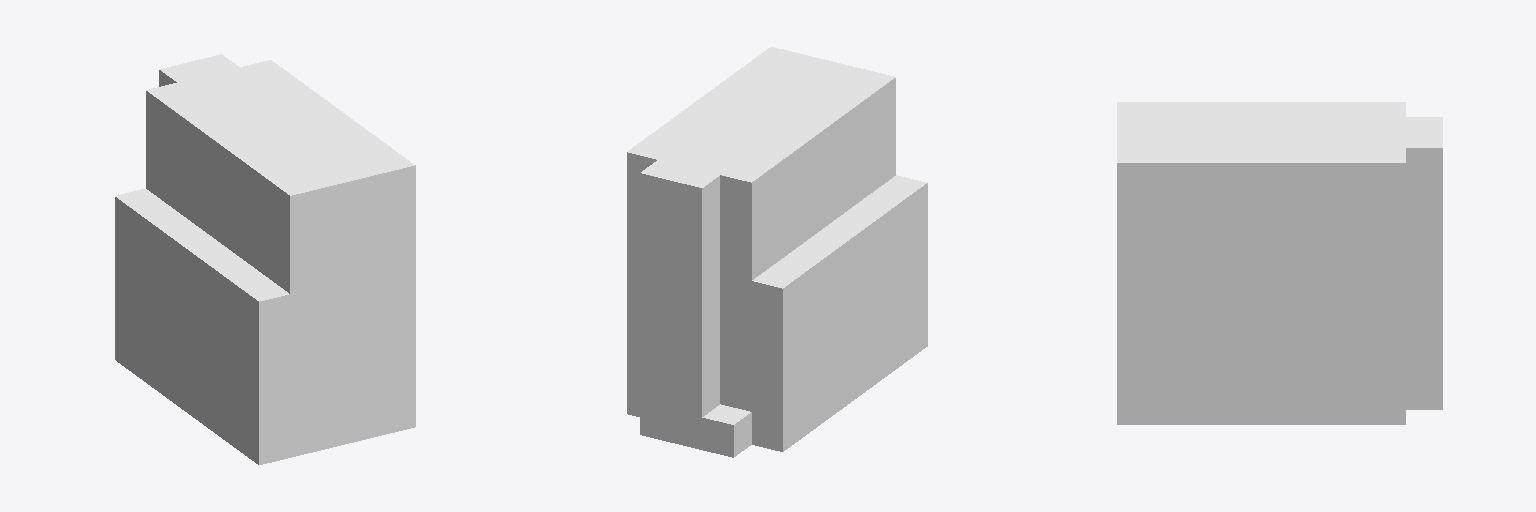
The model's file is shadow_neck.obj.
The picture shows the model from 3 angles: view 1: azimuth 30°, elevation 25°; view 2: azimuth 150°, elevation 25°; view 3: azimuth 270°, elevation 25°; orthographic projection.
Parts seen in each view (by area): view 1: object 1; view 2: object 1; view 3: object 1.
Part boxes in pixels (bbox=[...]): object 1: bbox=[115, 54, 415, 464]; object 1: bbox=[627, 47, 927, 457]; object 1: bbox=[1117, 102, 1442, 424].
Size of the model in its own units: 0.5 by 0.8 by 0.9.